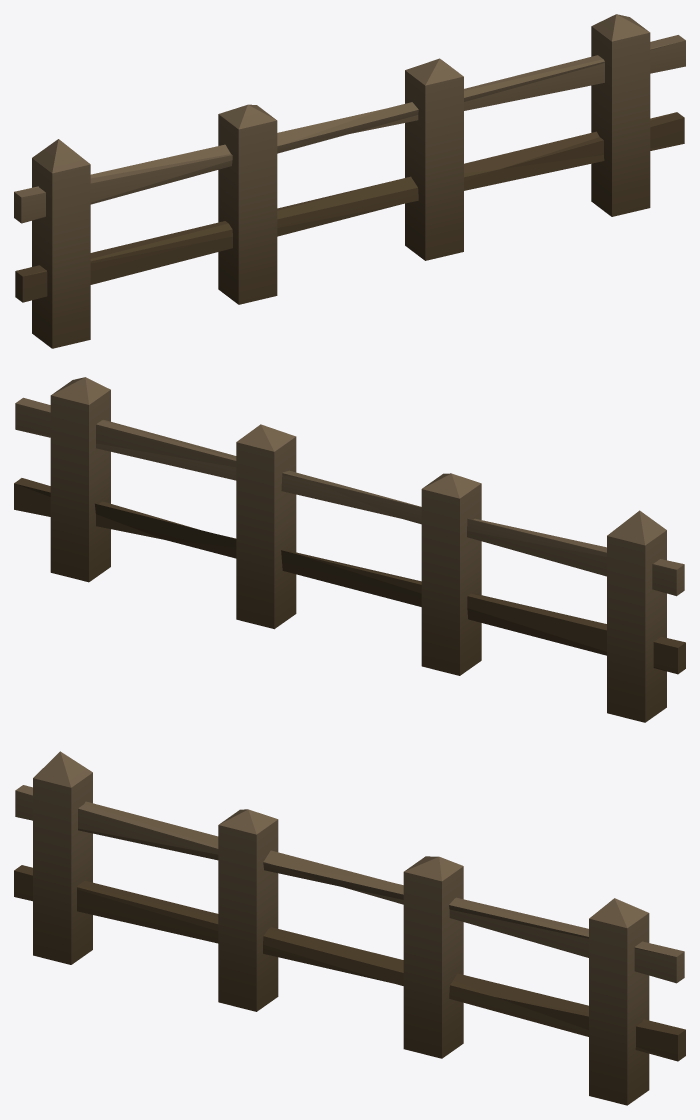
The model's file is Fence_Wood.fbx.
3 views of the same model, one above another, from view 1: azimuth 30°, elevation 25°; view 2: azimuth 150°, elevation 25°; view 3: azimuth 330°, elevation 25° (orthographic).
Visible parts, largest first — view 1: Fence_Wood.010; view 2: Fence_Wood.010; view 3: Fence_Wood.010.
Part boxes in pixels (x1=…): Fence_Wood.010: x1=14, y1=14, x2=685, y2=348; Fence_Wood.010: x1=14, y1=377, x2=685, y2=722; Fence_Wood.010: x1=14, y1=751, x2=685, y2=1105.
Size of the model in its own units: 4 by 1.15 by 0.2748.
Materials: 1 (1 with a texture image).
